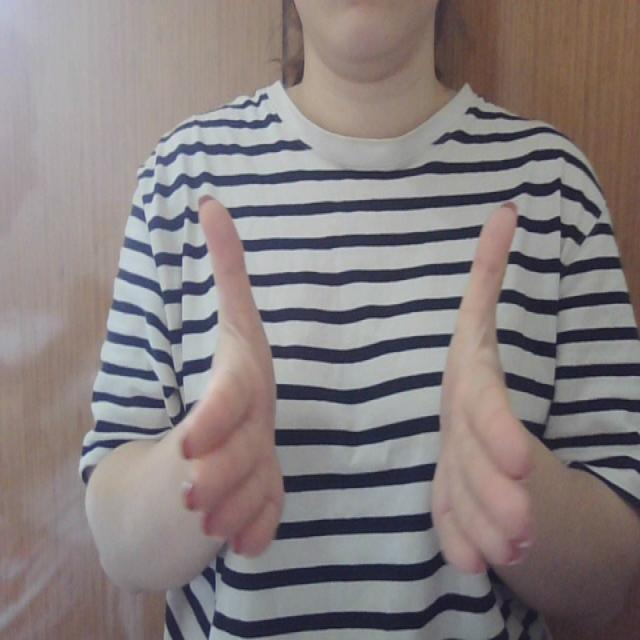Nasil: (158, 184, 546, 596)
